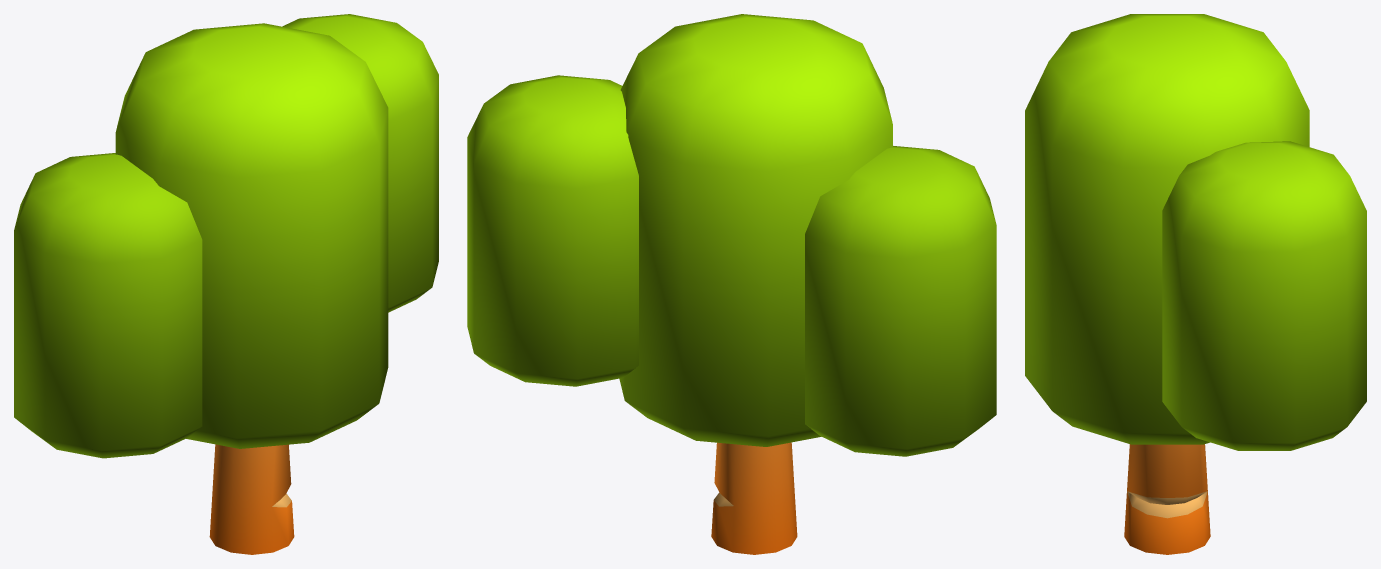
Rendered from Plant_C_Step_02.fbx.
3 renders of one model, left to right at view 1: azimuth 30°, elevation 25°; view 2: azimuth 150°, elevation 25°; view 3: azimuth 270°, elevation 25°, orthographic. The views are drawn at different scales.
Visible parts, largest first — view 1: Plant_C_Step_02; view 2: Plant_C_Step_02; view 3: Plant_C_Step_02.
Boxes of the visible parts, box(x1,y1,x2,y2) form: Plant_C_Step_02: box(14, 14, 438, 554); Plant_C_Step_02: box(467, 14, 996, 554); Plant_C_Step_02: box(1025, 14, 1366, 554).
Bounding box in the file's own units: 780 × 818 × 512.
